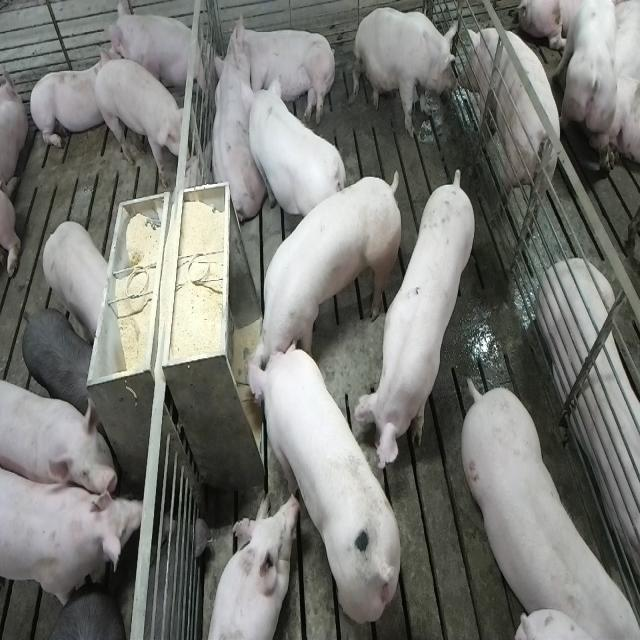Feeding: (246, 342, 406, 623), (242, 169, 398, 387)
Lateral_lying: (222, 12, 338, 128)
Sitting: (354, 6, 461, 140)
Standing: (456, 375, 635, 635), (359, 165, 478, 473), (2, 456, 142, 616), (459, 26, 559, 238), (248, 75, 347, 234), (2, 372, 118, 504), (93, 60, 193, 186), (20, 306, 94, 418), (40, 220, 108, 340)
Sternal_lying: (540, 261, 640, 592), (204, 492, 296, 640), (27, 49, 116, 154)
